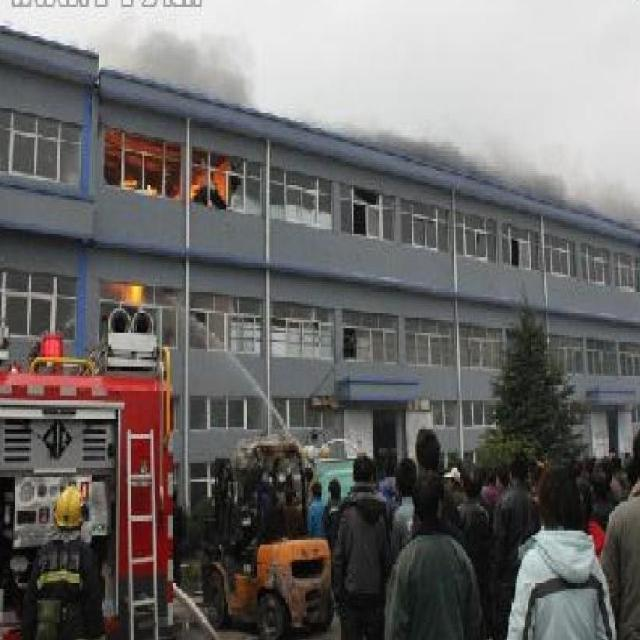Smoke: (126, 36, 256, 106)
